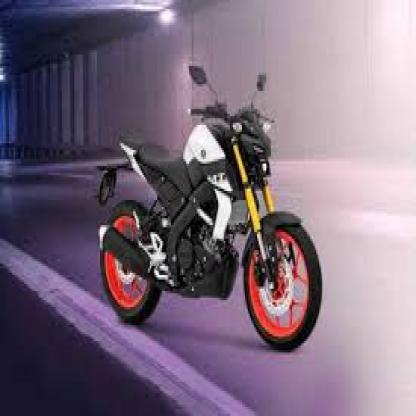Motorcycle: (84, 58, 329, 358)
